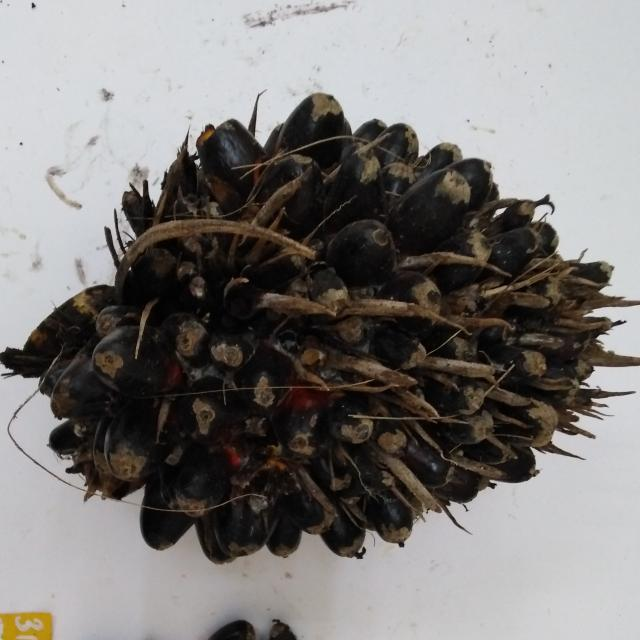FFB: (60, 93, 609, 562)
